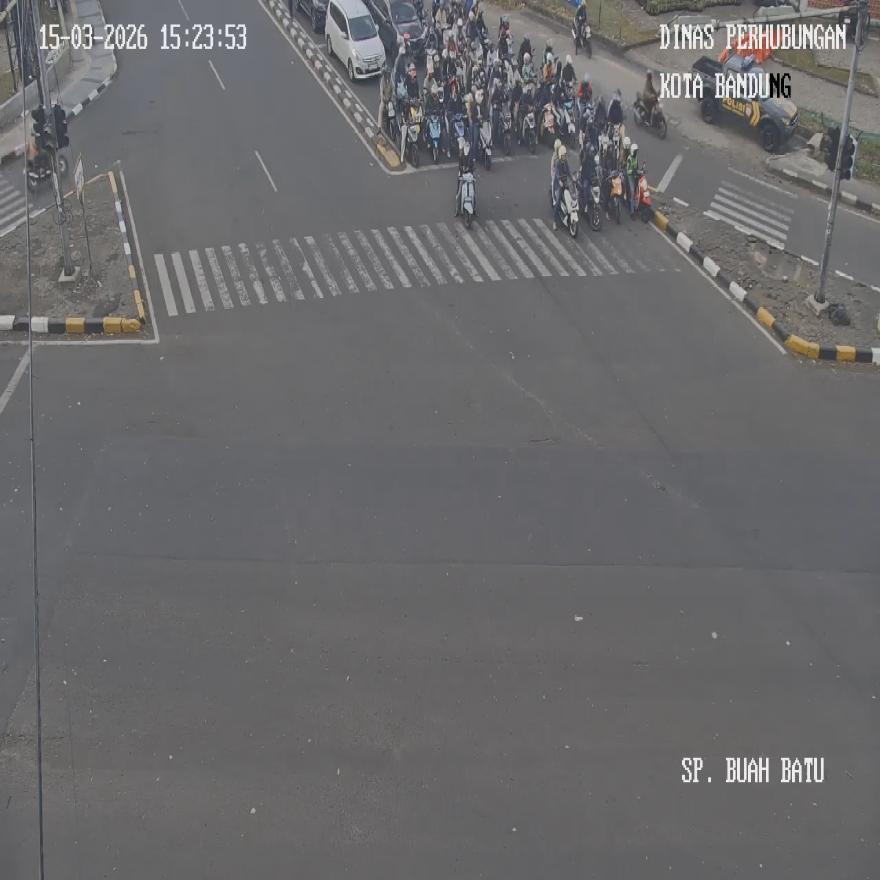Mobil: (325, 0, 386, 79)
Motor: (27, 134, 67, 192), (552, 178, 580, 236), (633, 92, 666, 138), (455, 168, 476, 228), (632, 165, 652, 222), (605, 169, 625, 223), (404, 110, 421, 166), (448, 109, 467, 156), (585, 178, 602, 230), (426, 112, 443, 164), (495, 103, 512, 154), (476, 116, 492, 169), (384, 97, 400, 149), (520, 106, 536, 154), (574, 16, 592, 57), (559, 100, 577, 141), (541, 102, 556, 140)
